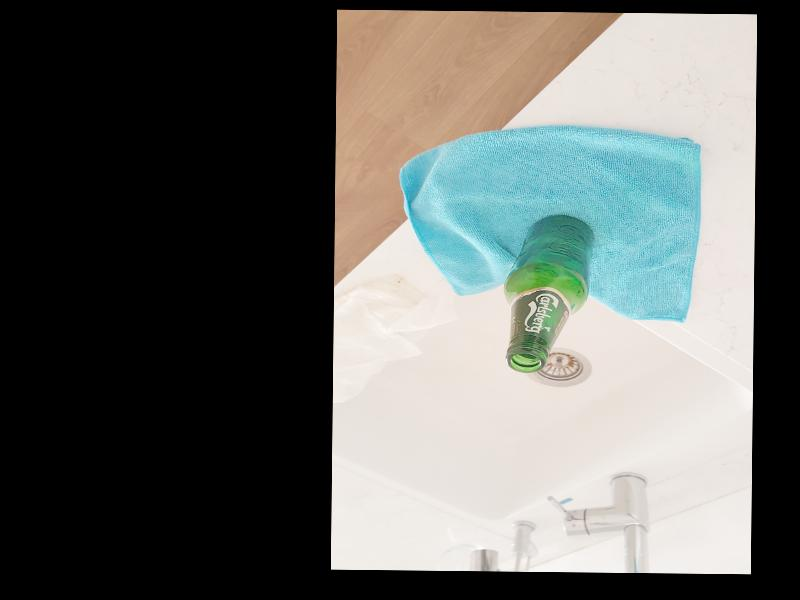Beer: (502, 211, 592, 371)
